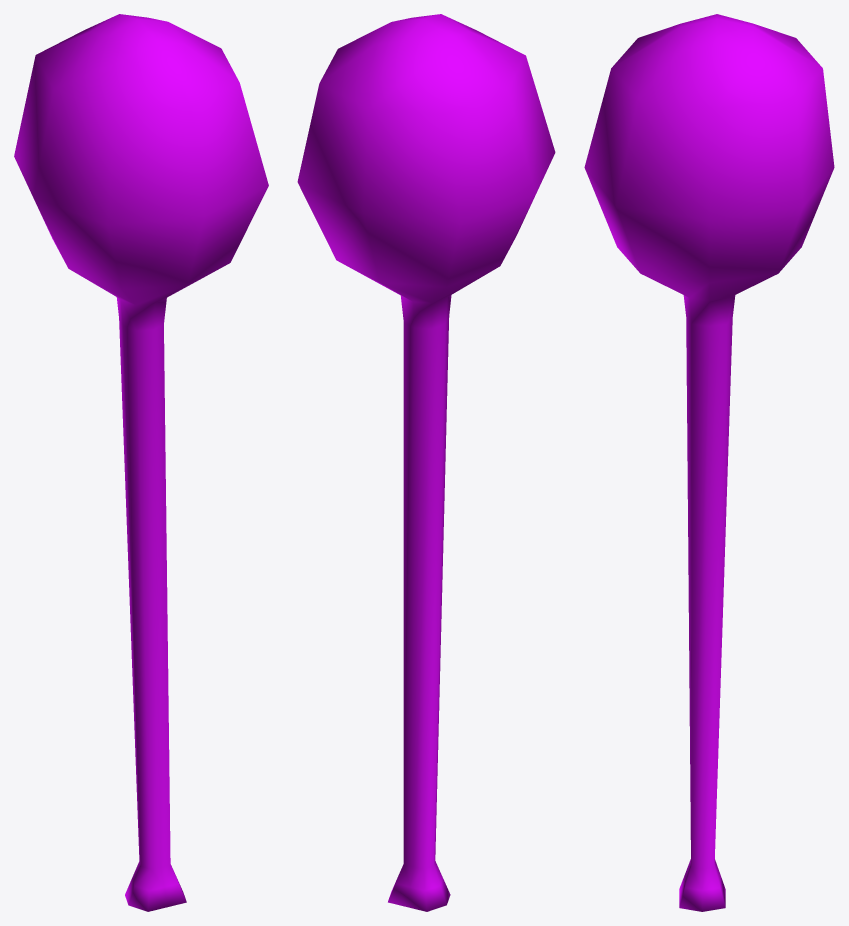
Rendered from CommonPeople_FreeSample_anniversy_balloon_1_meshCollider.fbx.
3 views of the same model, side by side, from view 1: azimuth 30°, elevation 25°; view 2: azimuth 150°, elevation 25°; view 3: azimuth 270°, elevation 25° (orthographic).
Parts seen in each view (by area): view 1: CommonPeople_FreeSample_anniversy_balloon_1_meshCollider; view 2: CommonPeople_FreeSample_anniversy_balloon_1_meshCollider; view 3: CommonPeople_FreeSample_anniversy_balloon_1_meshCollider.
Part boxes in pixels (bbox=[...]): CommonPeople_FreeSample_anniversy_balloon_1_meshCollider: bbox=[14, 14, 268, 911]; CommonPeople_FreeSample_anniversy_balloon_1_meshCollider: bbox=[297, 14, 555, 911]; CommonPeople_FreeSample_anniversy_balloon_1_meshCollider: bbox=[584, 14, 834, 911].
Bounding box in the file's own units: 31.41 × 122 × 31.52.
